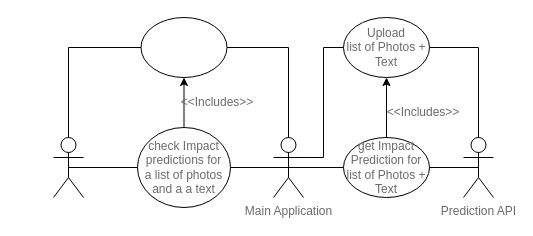
Some shapes in this 533 by 236 pixel diagram are drawn without their labels. Here are the shapes that lost their labels. From the top down, the centre of each, then its label:
At [183,47]: "Upload list of Photos + one text".
At [68,167]: "Authenticated User".
